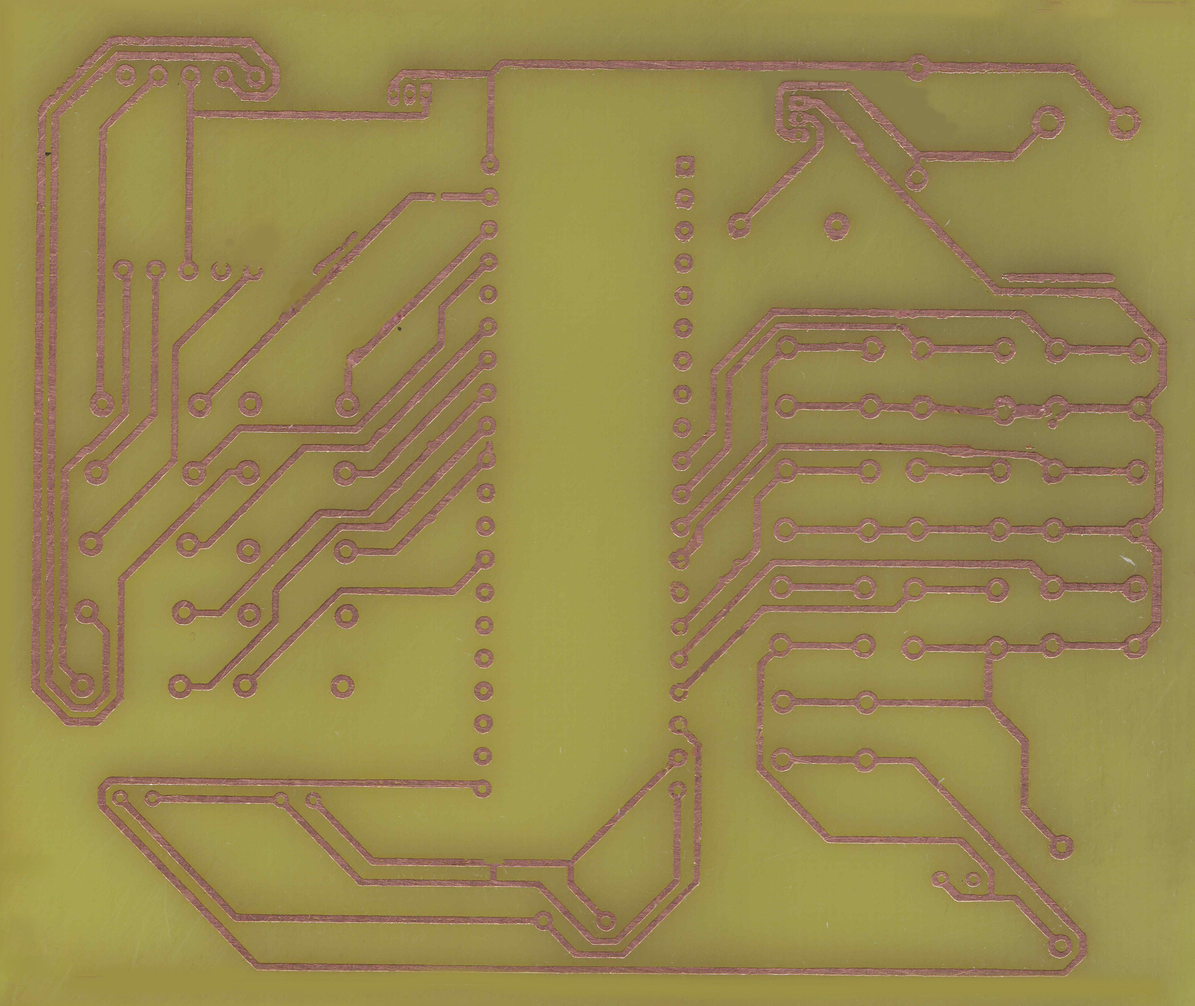missing_hole: (1044, 393, 1069, 431), (207, 257, 235, 284), (238, 257, 268, 280), (667, 548, 692, 572), (790, 127, 810, 143), (789, 111, 808, 126)
mouse_bite: (482, 857, 507, 866), (850, 138, 862, 155)
open_circuit: (432, 192, 445, 204)
short: (483, 857, 506, 887)
spur: (726, 555, 749, 573), (423, 437, 438, 452)
spurious_copper: (998, 268, 1121, 287), (311, 229, 360, 275)
